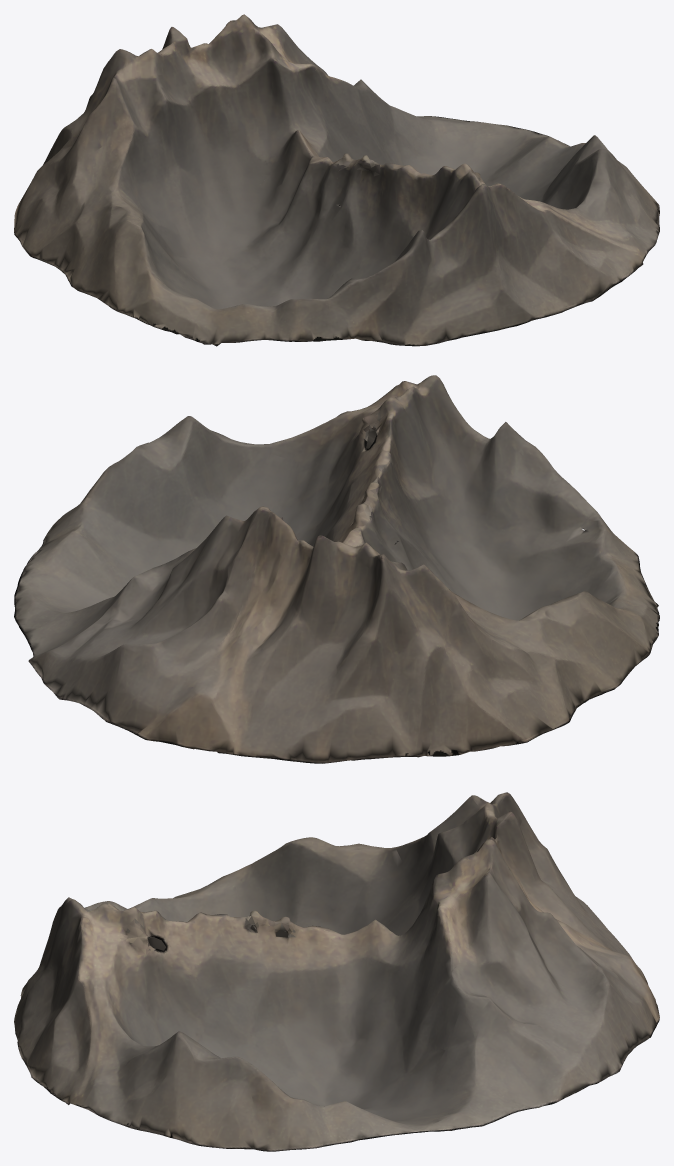
3 views of the same model, one above another, from view 1: azimuth 30°, elevation 25°; view 2: azimuth 150°, elevation 25°; view 3: azimuth 270°, elevation 25° (orthographic). The views are drawn at different scales.
Visible parts, largest first — view 1: geometry_0; view 2: geometry_0; view 3: geometry_0.
Boxes of the visible parts, x1,y1,x2,y2 form: geometry_0: (14, 14, 659, 346); geometry_0: (14, 375, 659, 763); geometry_0: (14, 792, 659, 1151).
Bounding box in the file's own units: 30 × 10.84 × 29.99.
Materials: 1 (1 with a texture image).
